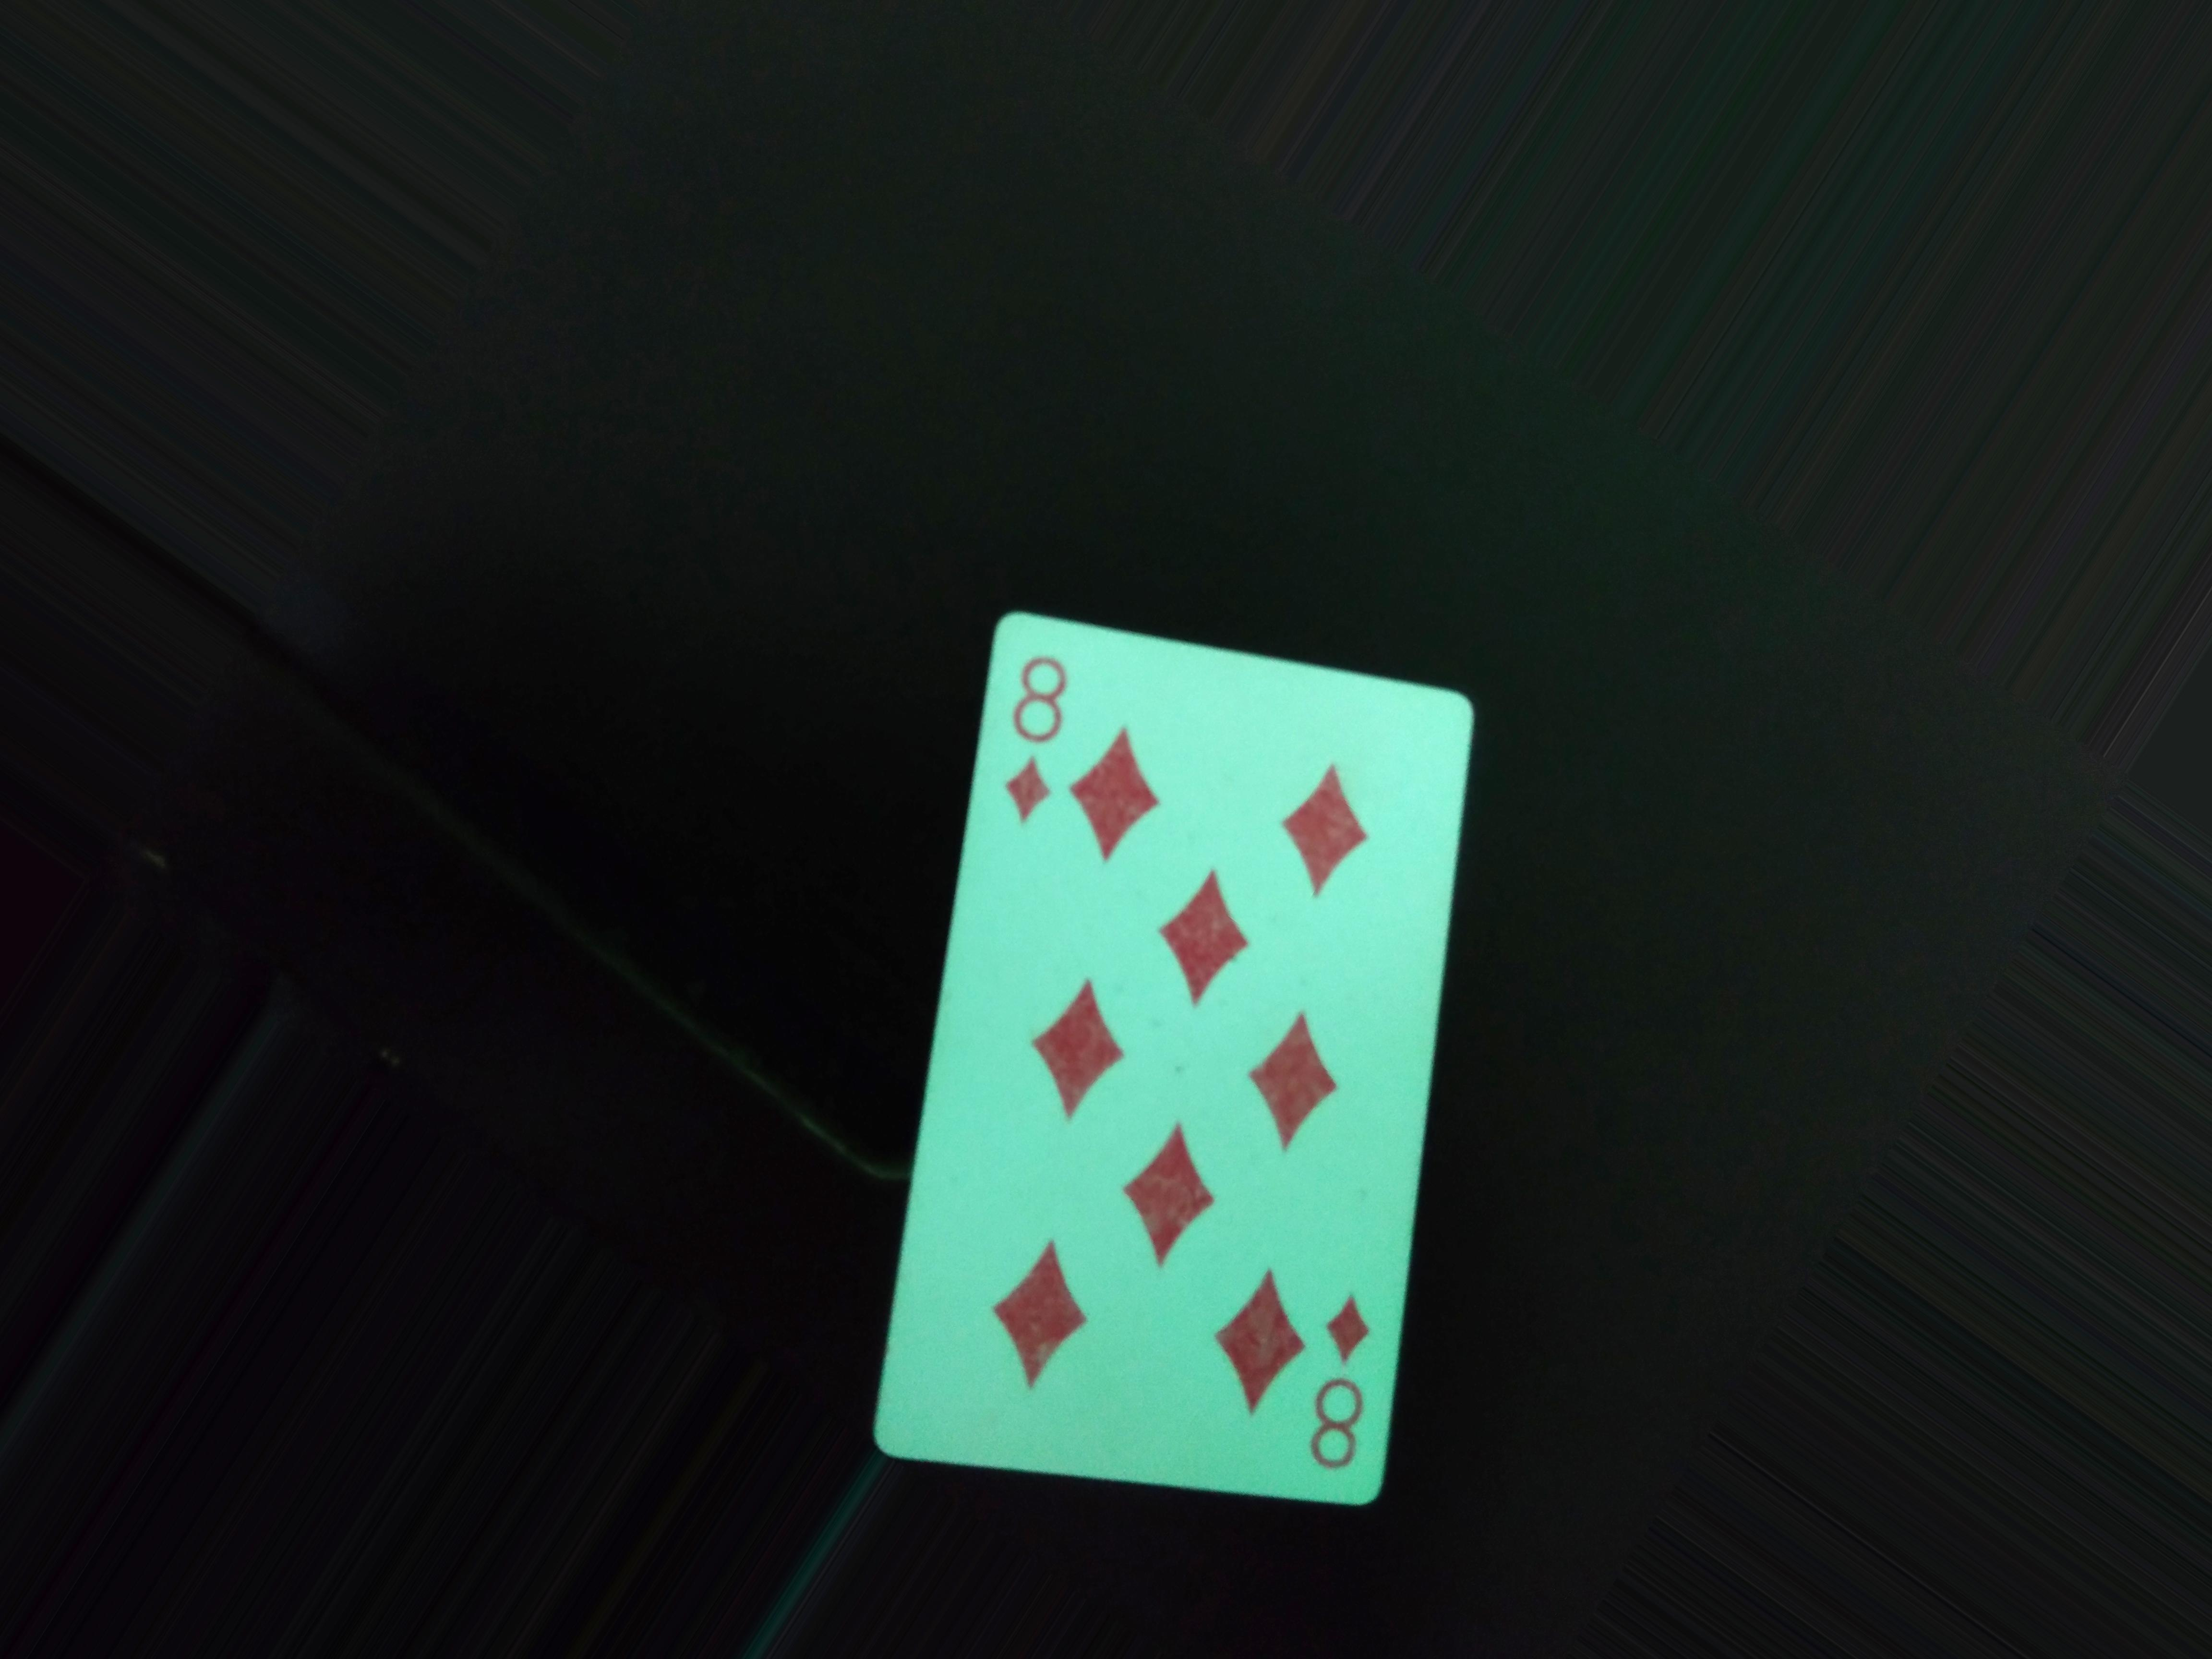8D: (1000, 634, 1083, 840)
